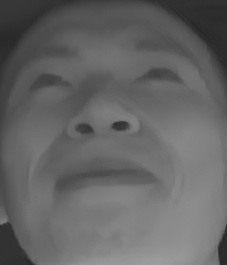eye: (128, 62, 185, 90), (24, 68, 74, 94)
mouth: (48, 150, 162, 206)
